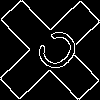C: (25, 25, 84, 83)
